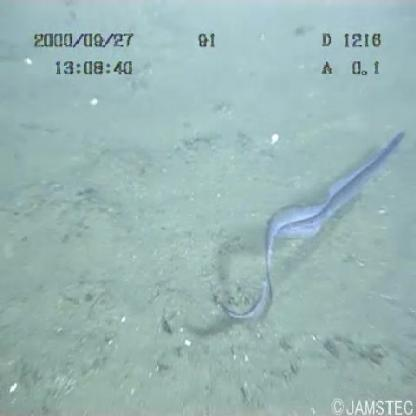Bio: (215, 119, 410, 327)
